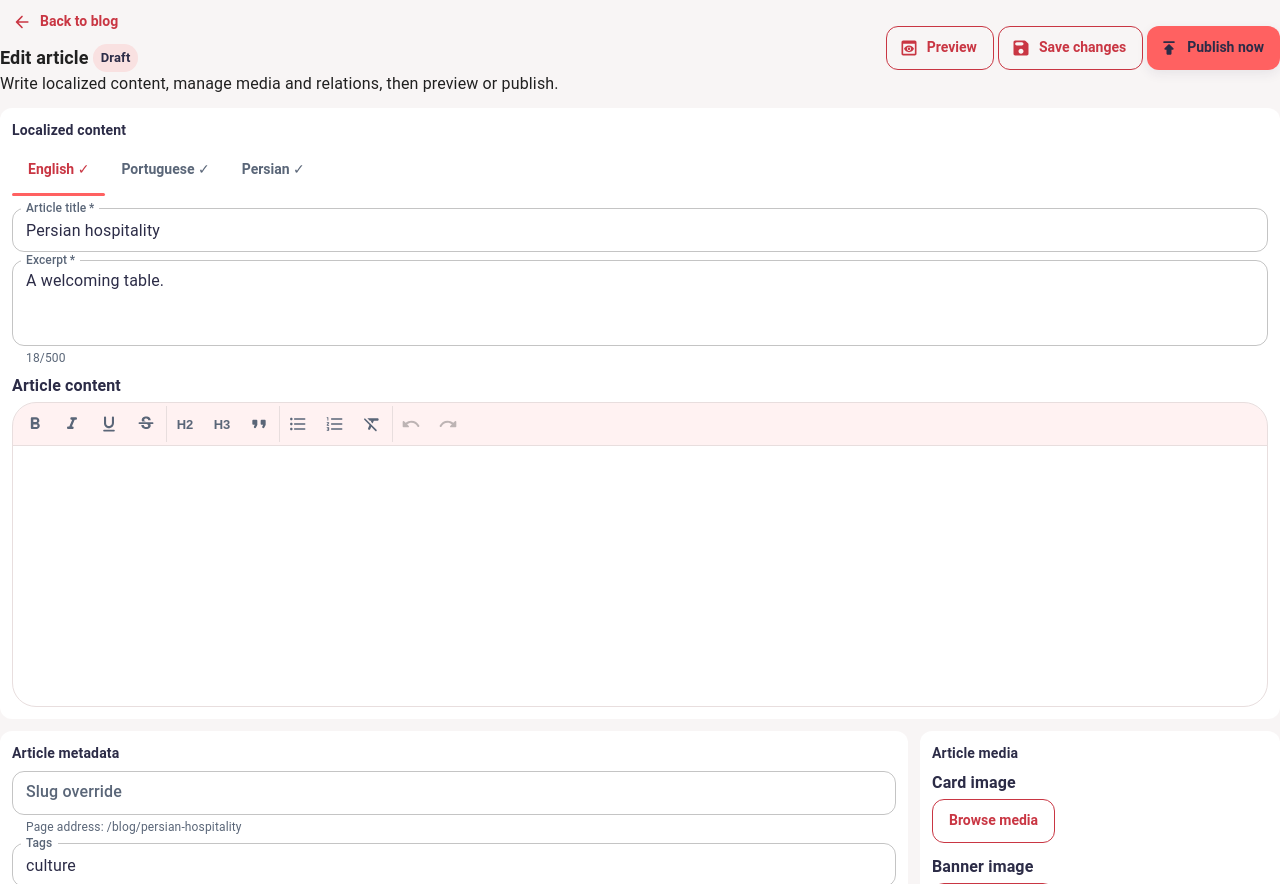
it: blog editor › uses a version-bound token for secure draft preview
Expected: the field labelled "Article title" is shown, [12,210,1268,250]
Click the button "Preview" at (940,48), box [886,26,994,70]
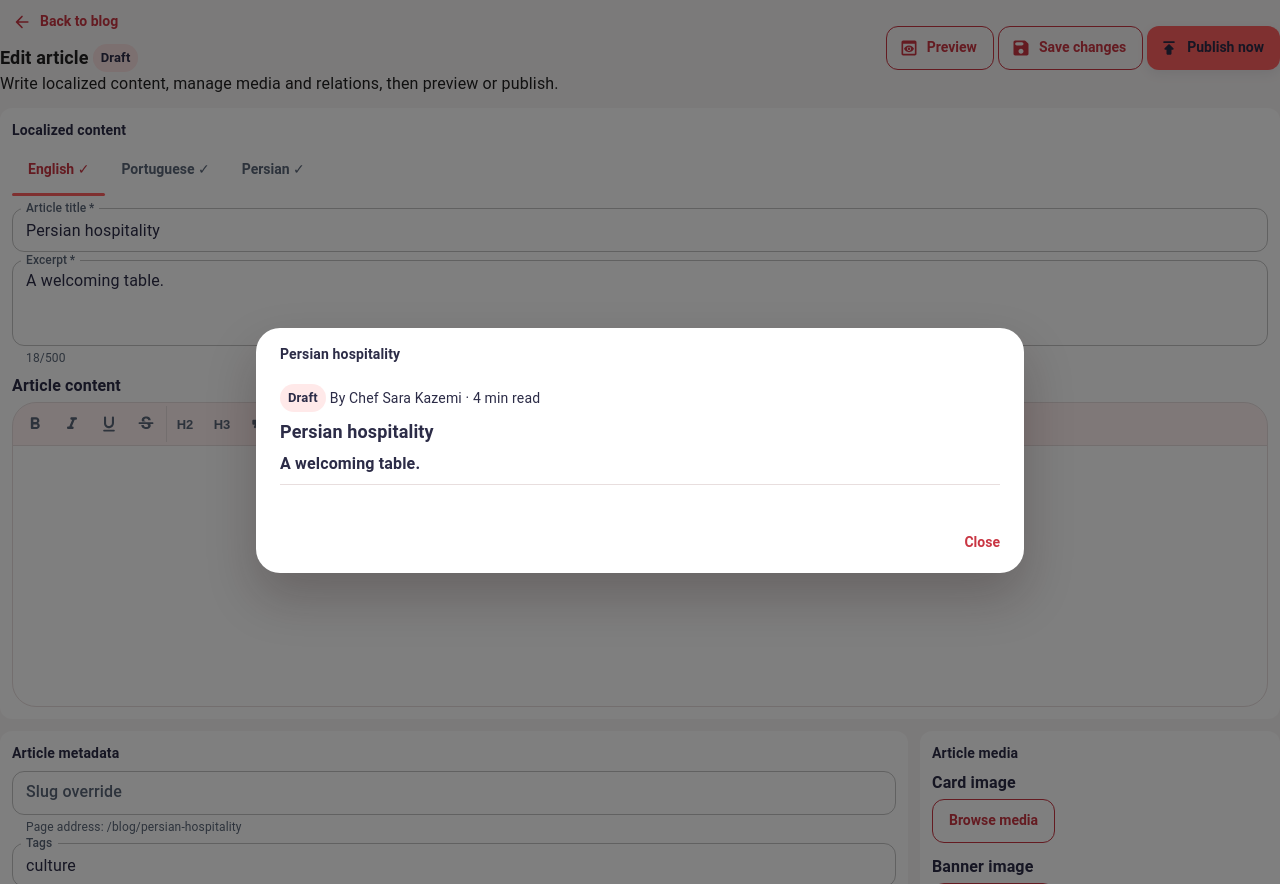
Expected: the heading "A welcoming table." is shown, [280,454,420,472]
